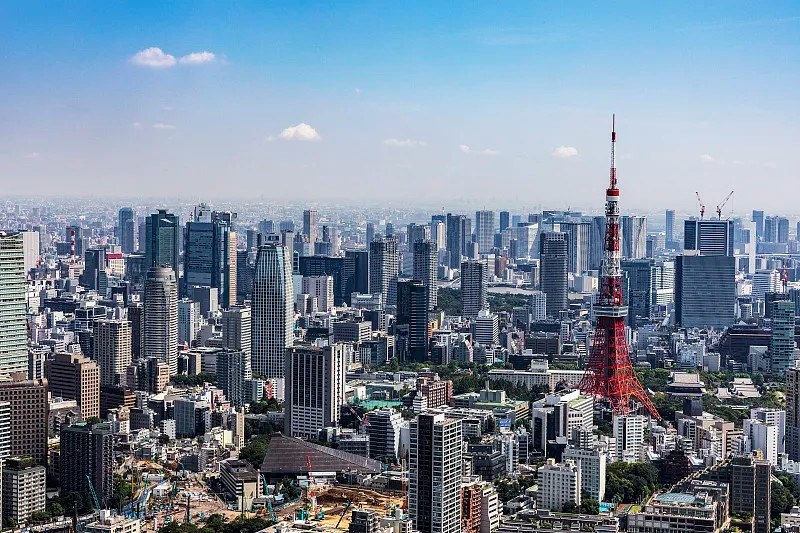Tokyo: (574, 111, 665, 422)
